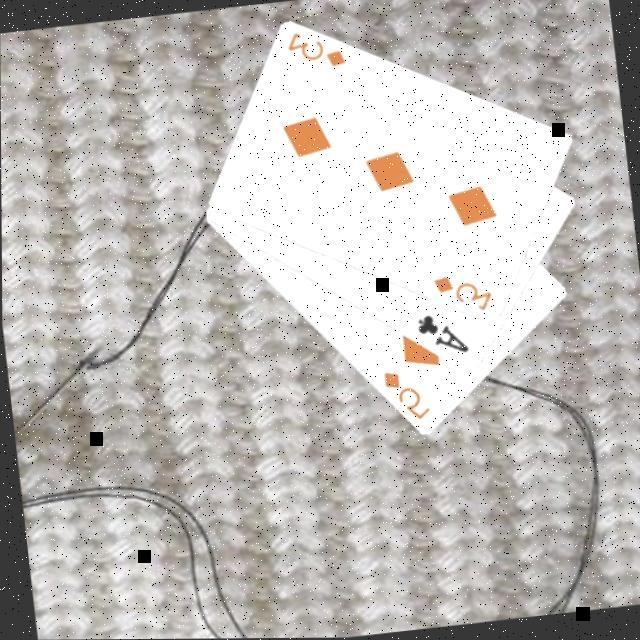3D: (426, 270, 494, 322), (280, 25, 348, 76)
5D: (376, 366, 432, 428)
AC: (410, 308, 470, 364)
